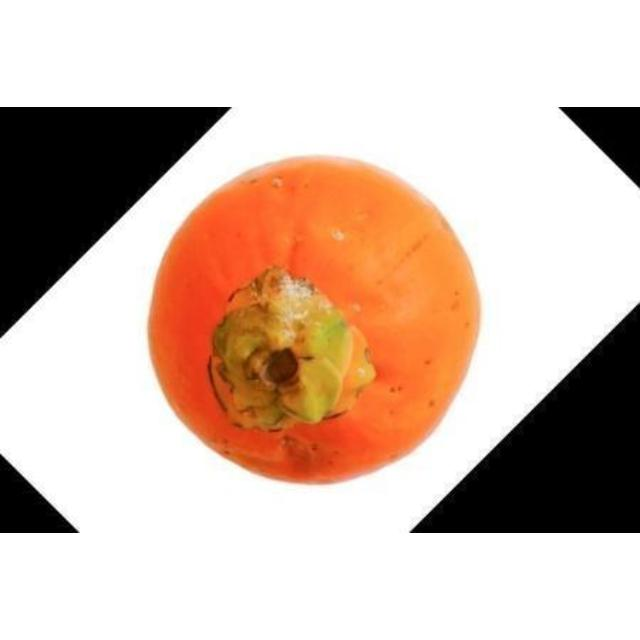good: (144, 154, 485, 487)
